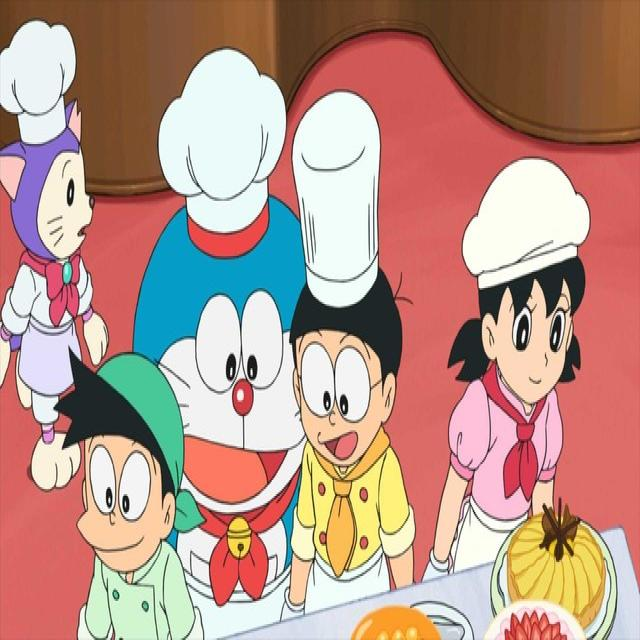doraemon: (116, 181, 339, 537)
nobita: (282, 260, 409, 496)
shizuka: (439, 210, 606, 442)
suneo: (60, 348, 208, 592)
